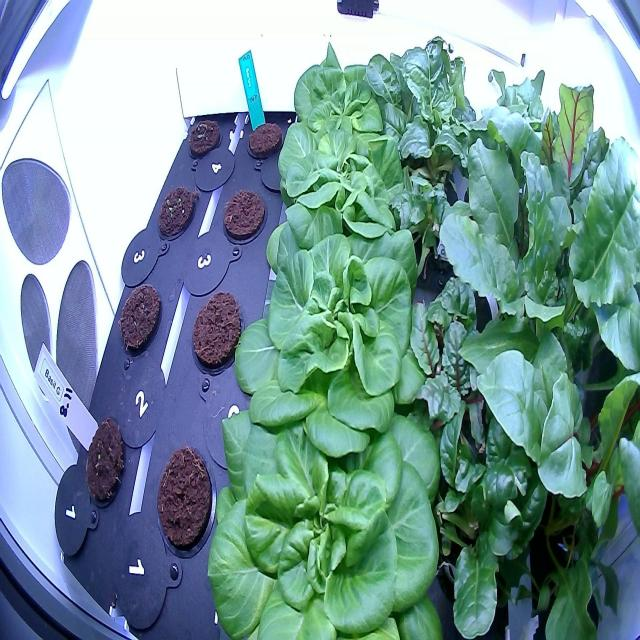Ready: (198, 373, 453, 639), (226, 209, 439, 469), (270, 114, 418, 253), (287, 31, 399, 152)
germination: (153, 172, 198, 246), (184, 110, 224, 168)
pod: (150, 432, 220, 569), (186, 271, 247, 386), (81, 413, 132, 515), (115, 266, 166, 358), (218, 176, 272, 253), (242, 111, 288, 173)
